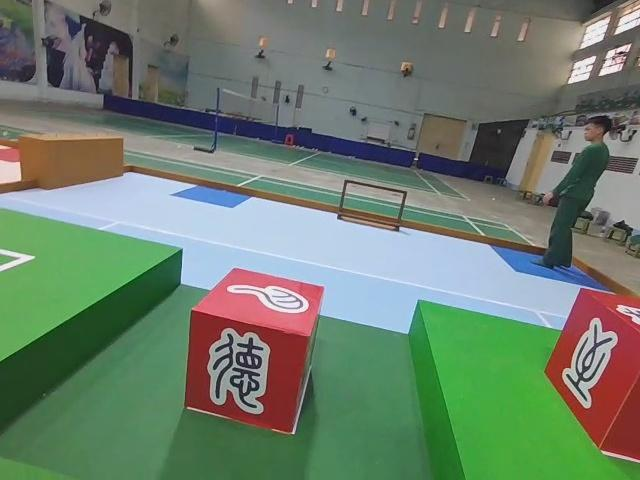R2 Fake: (183, 265, 328, 436), (542, 282, 640, 463)
